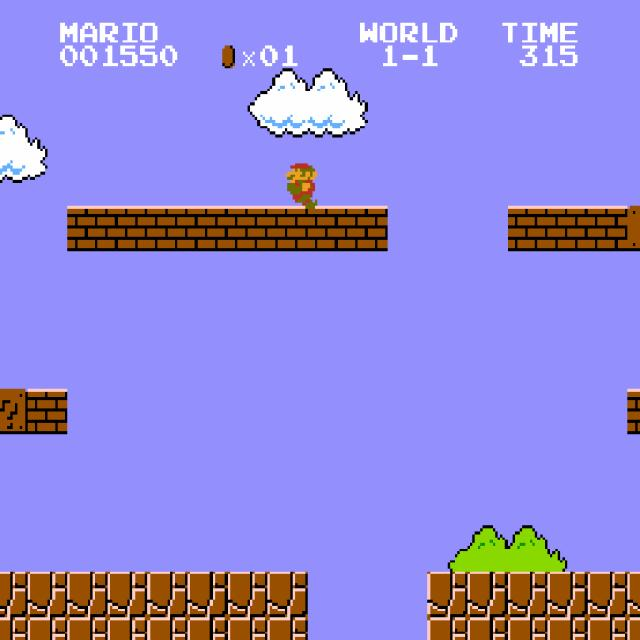brick_block: (27, 389, 68, 434), (67, 206, 108, 251), (107, 206, 148, 251), (147, 206, 188, 251), (187, 206, 228, 251), (227, 206, 268, 251), (267, 206, 308, 251), (307, 206, 348, 251), (347, 206, 388, 251), (507, 206, 548, 251), (547, 206, 588, 251), (587, 206, 628, 251), (627, 389, 640, 434)
little_mario: (277, 160, 320, 208)
mystery_block: (0, 389, 28, 434), (627, 206, 640, 251)
undestructible_block: (27, 572, 68, 617), (67, 572, 108, 617), (107, 572, 148, 617), (147, 572, 188, 617), (187, 572, 228, 617), (227, 572, 268, 617), (267, 572, 308, 617), (427, 572, 468, 617), (467, 572, 508, 617), (507, 572, 548, 617), (547, 572, 588, 617), (587, 572, 628, 617), (0, 572, 28, 617), (27, 617, 68, 640), (67, 617, 108, 640), (107, 617, 148, 640), (147, 617, 188, 640), (187, 617, 228, 640), (227, 617, 268, 640), (267, 617, 308, 640), (427, 617, 468, 640), (467, 617, 508, 640), (507, 617, 548, 640), (547, 617, 588, 640), (587, 617, 628, 640), (0, 617, 28, 640), (627, 572, 640, 617), (627, 617, 640, 640)
